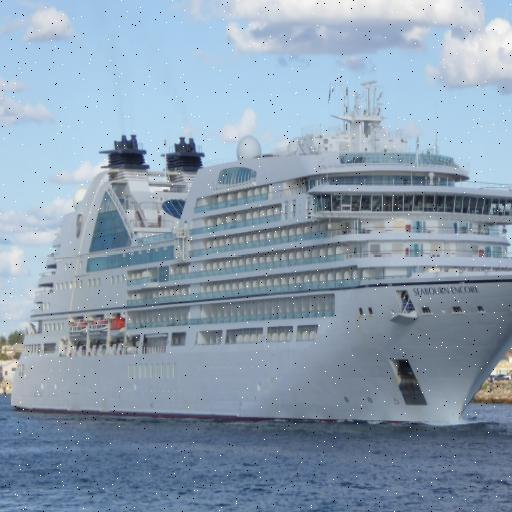cruises: (2, 69, 512, 440)
